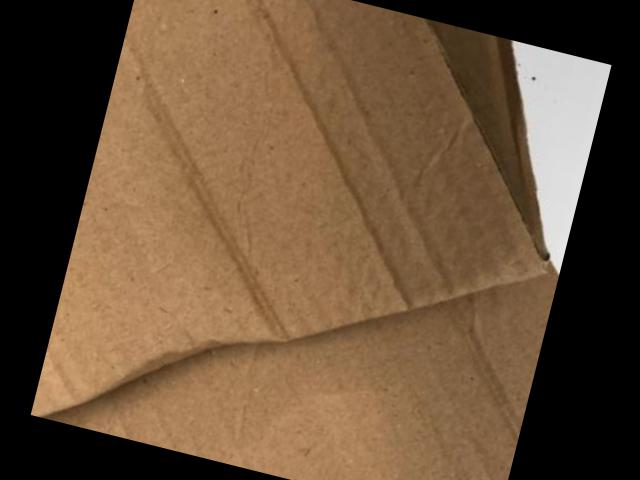cardboard paper: (29, 0, 559, 480)
